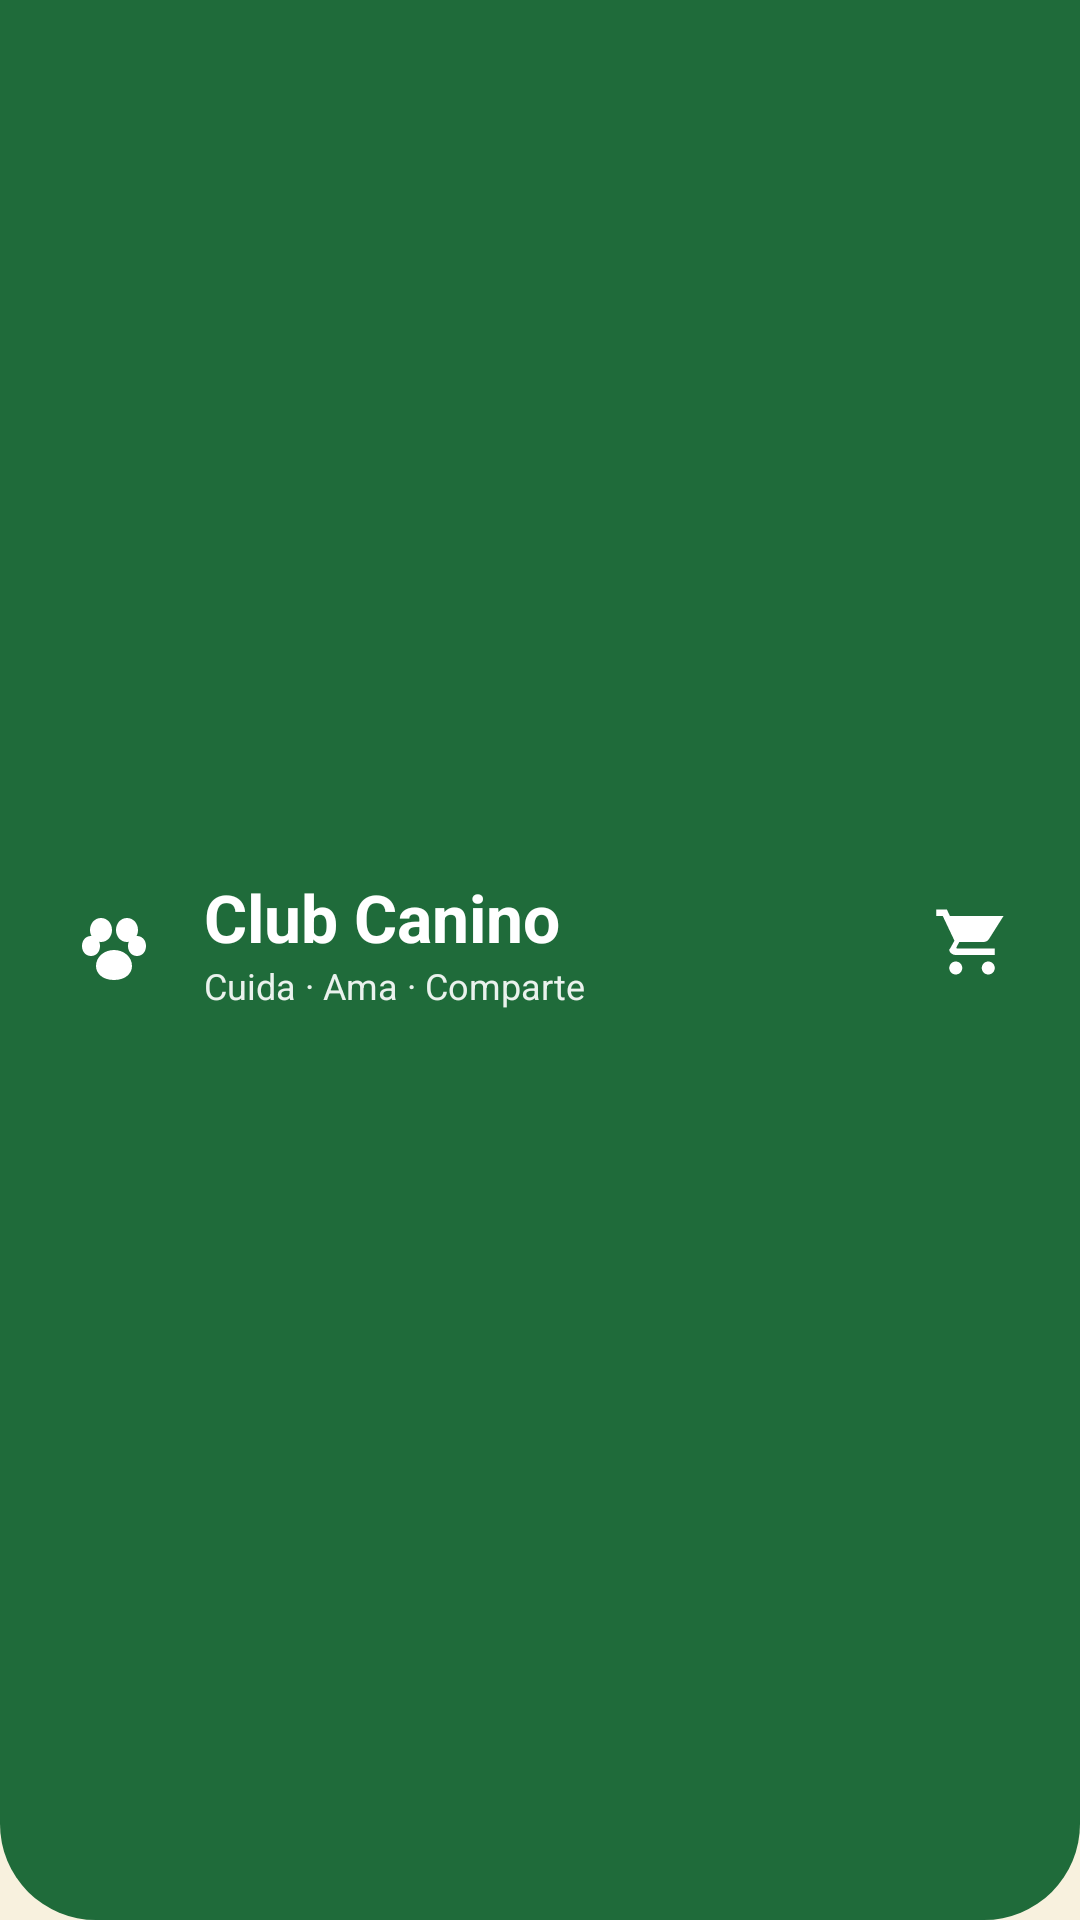

Where icons sit on this 1080x1920 app screen, as (x1, y1, x2, y2):
Abrir carrito: (936, 909, 1004, 975)
paw: (82, 918, 146, 980)
